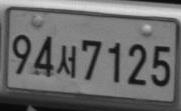1: (105, 41, 125, 82)
2: (127, 43, 146, 86)
4: (31, 36, 54, 79)
5: (151, 45, 171, 86)
7: (81, 39, 102, 79)
9: (12, 33, 31, 74)
서: (56, 44, 76, 79)
